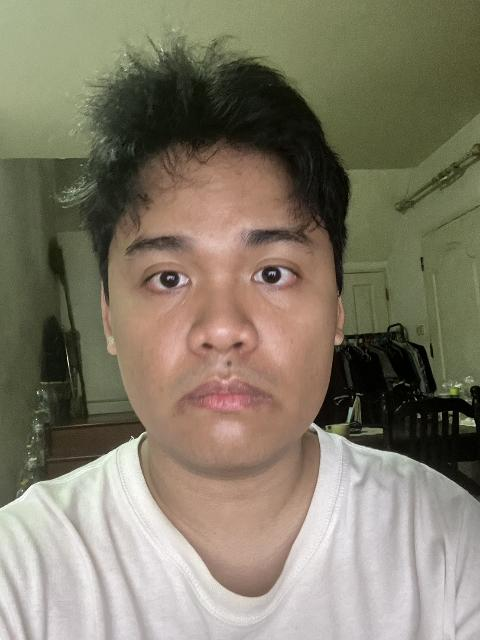fokus: (94, 93, 346, 476)
